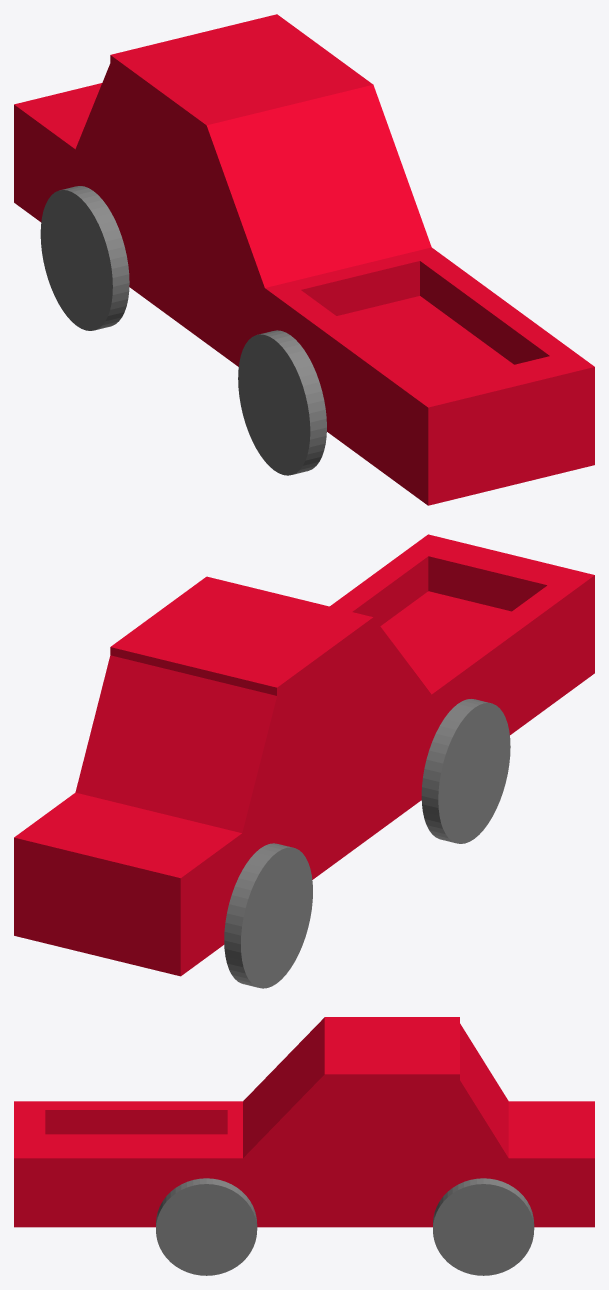
The model's file is truck.fbx.
The picture shows the model from 3 angles, top to bottom: view 1: azimuth 30°, elevation 25°; view 2: azimuth 150°, elevation 25°; view 3: azimuth 270°, elevation 25°; orthographic projection. The views are drawn at different scales.
Parts seen in each view (by area): view 1: obj_2; view 2: obj_2; view 3: obj_2.
Boxes of the visible parts, bbox=[...] form: obj_2: bbox=[14, 14, 594, 505]; obj_2: bbox=[14, 534, 594, 988]; obj_2: bbox=[14, 1017, 594, 1275].
Bounding box in the file's own units: 2400 × 3200 × 8600.
